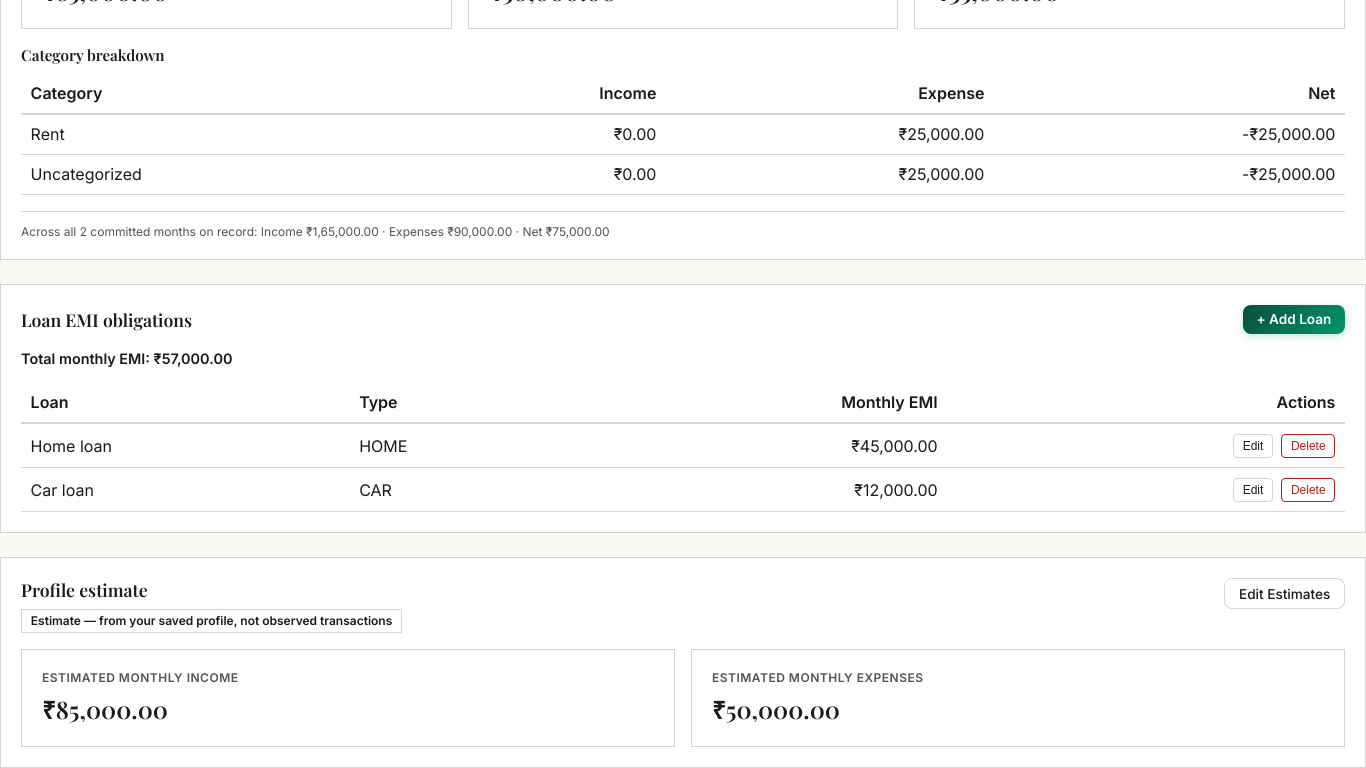
it: MonthlyTracker page (canonical data only, no fabricated figures) › edit estimates modal: opens, modifies income/expenses, and saves via saveDashboardFinancials
This screenshot has width=1366, height=768.
(page scrolled)
Click the button with test id "edit-estimates-btn" at (1285, 594), box [1224,578,1345,609]
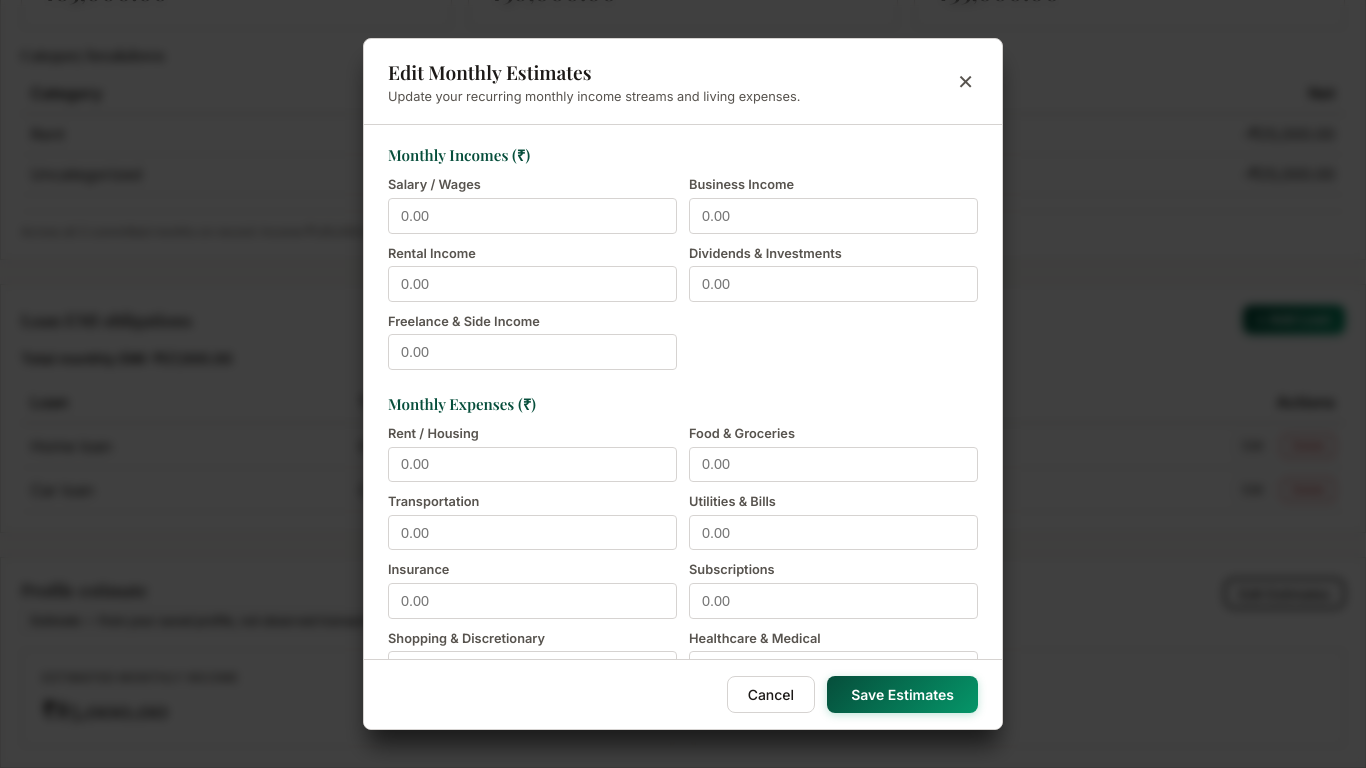
Now the dialog with test id "estimates-modal" is shown
Now the heading "Edit Monthly Estimates" is shown, box [388,59,592,85]
Type "95000" into the number field labelled "Salary / Wages" at (532, 216), box [388,198,677,234]
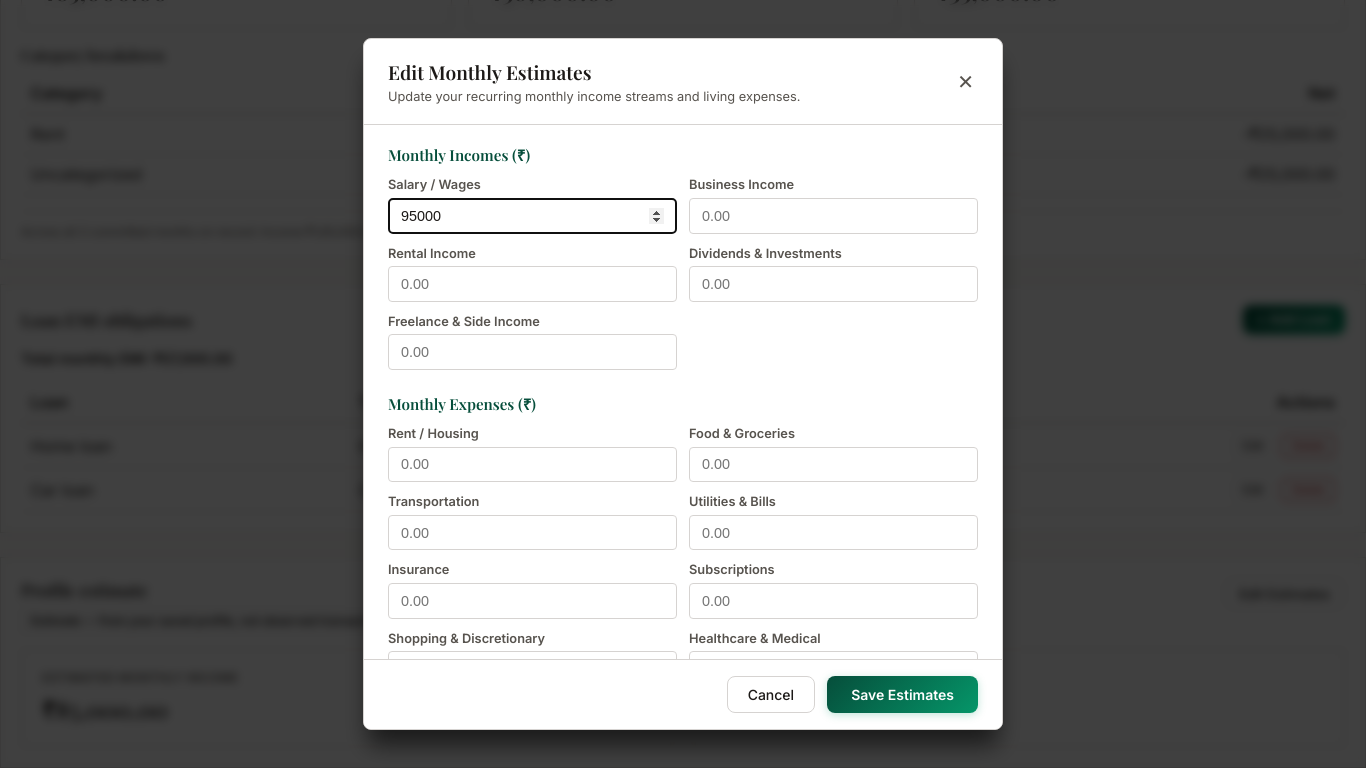
Type "18000" into the number field labelled "Food & Groceries" at (834, 464), box [689,447,978,482]
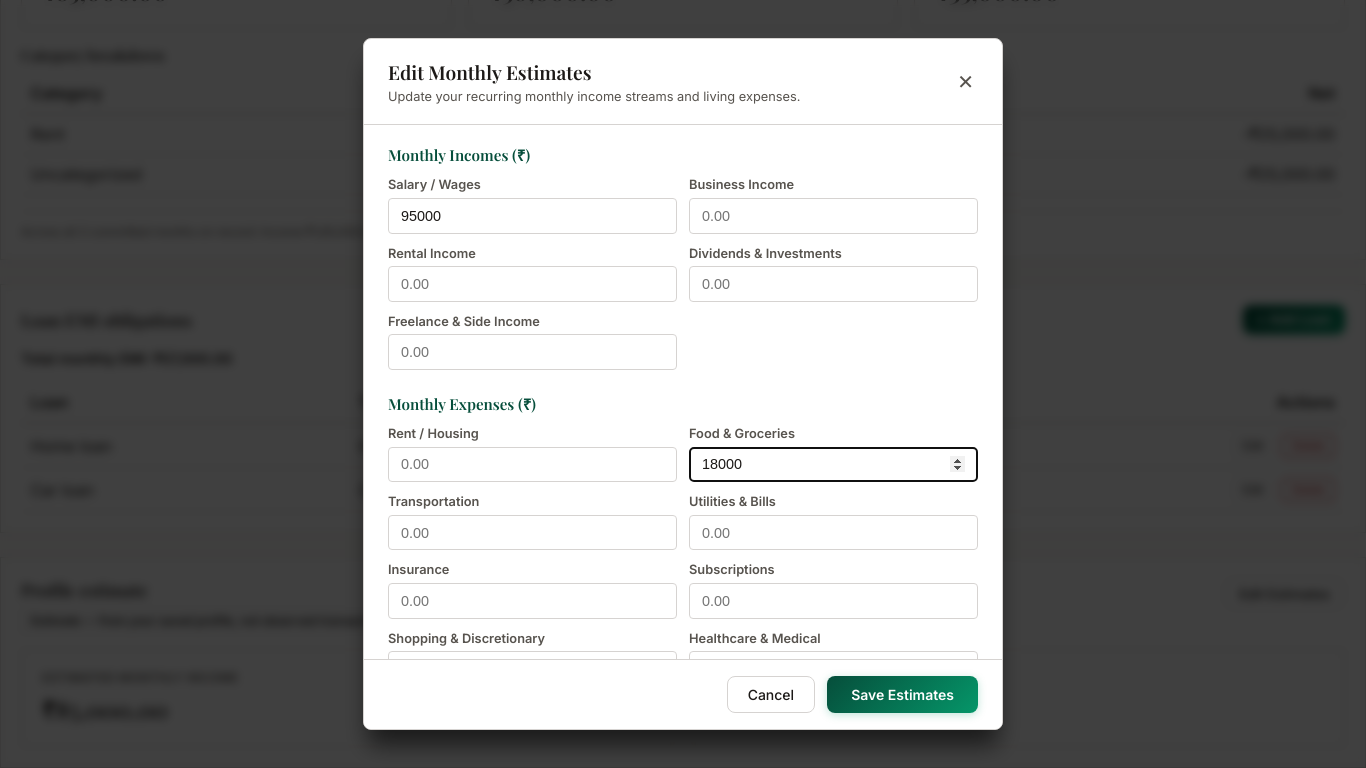
Click the button with test id "save-estimates-btn" at (903, 694), box [827,676,978,713]
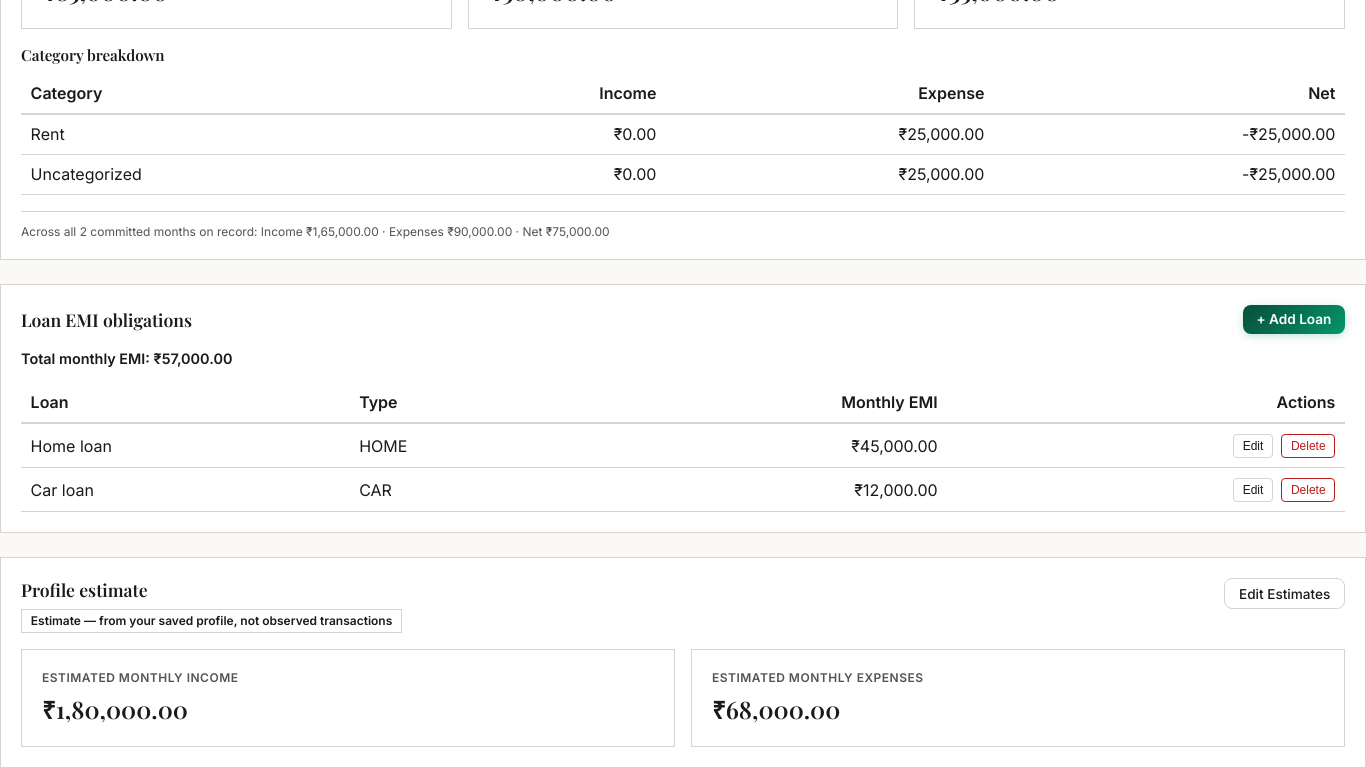
Now the dialog with test id "estimates-modal" is gone
